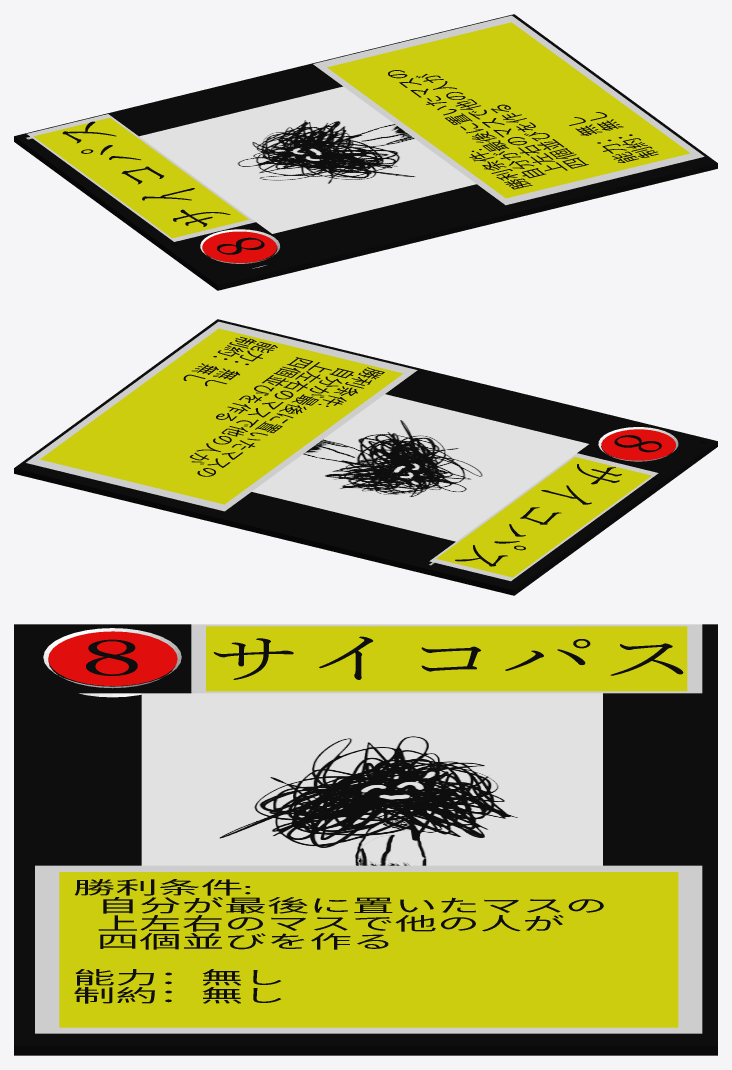
The model's file is サイコパス黒.fbx.
3 renders of one model, top to bottom at view 1: azimuth 30°, elevation 25°; view 2: azimuth 150°, elevation 25°; view 3: azimuth 270°, elevation 25°, orthographic. The views are drawn at different scales.
Visible parts, largest first — view 1: 説明欄, 平面.001, カード本体.001, 名前欄, 説明文, 平面, 円, 名前; view 2: 説明欄, 平面.001, カード本体.001, 名前欄, 説明文, 円, 平面, 名前; view 3: 説明欄, 平面.001, カード本体.001, 名前欄, 説明文, 平面, 円, 名前, コスト蘭, コスト.
Part boxes in pixels (bbox=[...]): 説明欄: bbox=[313, 15, 704, 205]; 平面.001: bbox=[139, 86, 476, 233]; カード本体.001: bbox=[14, 14, 717, 290]; 名前欄: bbox=[27, 114, 255, 241]; 説明文: bbox=[388, 70, 658, 189]; 平面: bbox=[174, 222, 302, 275]; 円: bbox=[202, 231, 276, 262]; 名前: bbox=[62, 121, 230, 226]; 説明欄: bbox=[26, 321, 417, 511]; 平面.001: bbox=[252, 394, 588, 541]; カード本体.001: bbox=[14, 319, 717, 595]; 名前欄: bbox=[429, 453, 658, 581]; 説明文: bbox=[183, 337, 384, 476]; 円: bbox=[601, 429, 675, 460]; 平面: bbox=[577, 419, 704, 472]; 名前: bbox=[455, 464, 621, 566]; 説明欄: bbox=[35, 865, 702, 1033]; 平面.001: bbox=[141, 693, 602, 865]; カード本体.001: bbox=[14, 624, 717, 1055]; 名前欄: bbox=[191, 624, 702, 693]; 説明文: bbox=[74, 879, 603, 1003]; 平面: bbox=[30, 624, 191, 693]; 円: bbox=[48, 631, 177, 686]; 名前: bbox=[213, 636, 683, 679]; コスト蘭: bbox=[43, 628, 181, 697]; コスト: bbox=[86, 639, 137, 675].
Size of the model in its own units: 281 by 6.07 by 198.
